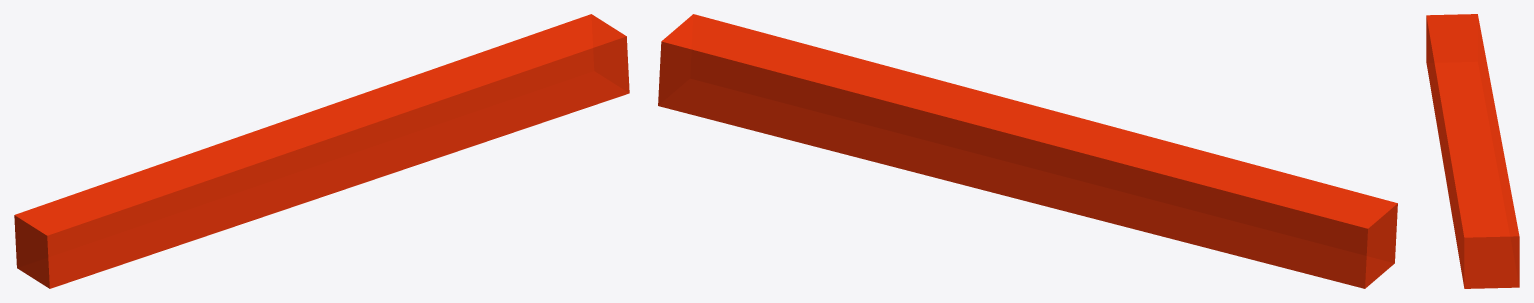
The model's file is Event_421364160_EErechit_49.fbx.
The picture shows the model from 3 angles, left to right: view 1: azimuth 30°, elevation 25°; view 2: azimuth 150°, elevation 25°; view 3: azimuth 270°, elevation 25°; orthographic projection. The views are drawn at different scales.
Parts seen in each view (by area): view 1: Model; view 2: Model; view 3: Model.
Boxes of the visible parts, bbox=[...] form: Model: bbox=[14, 14, 629, 288]; Model: bbox=[658, 14, 1397, 288]; Model: bbox=[1426, 14, 1519, 288].
Bounding box in the file's own units: 0.8558 × 0.122 × 0.1312.
